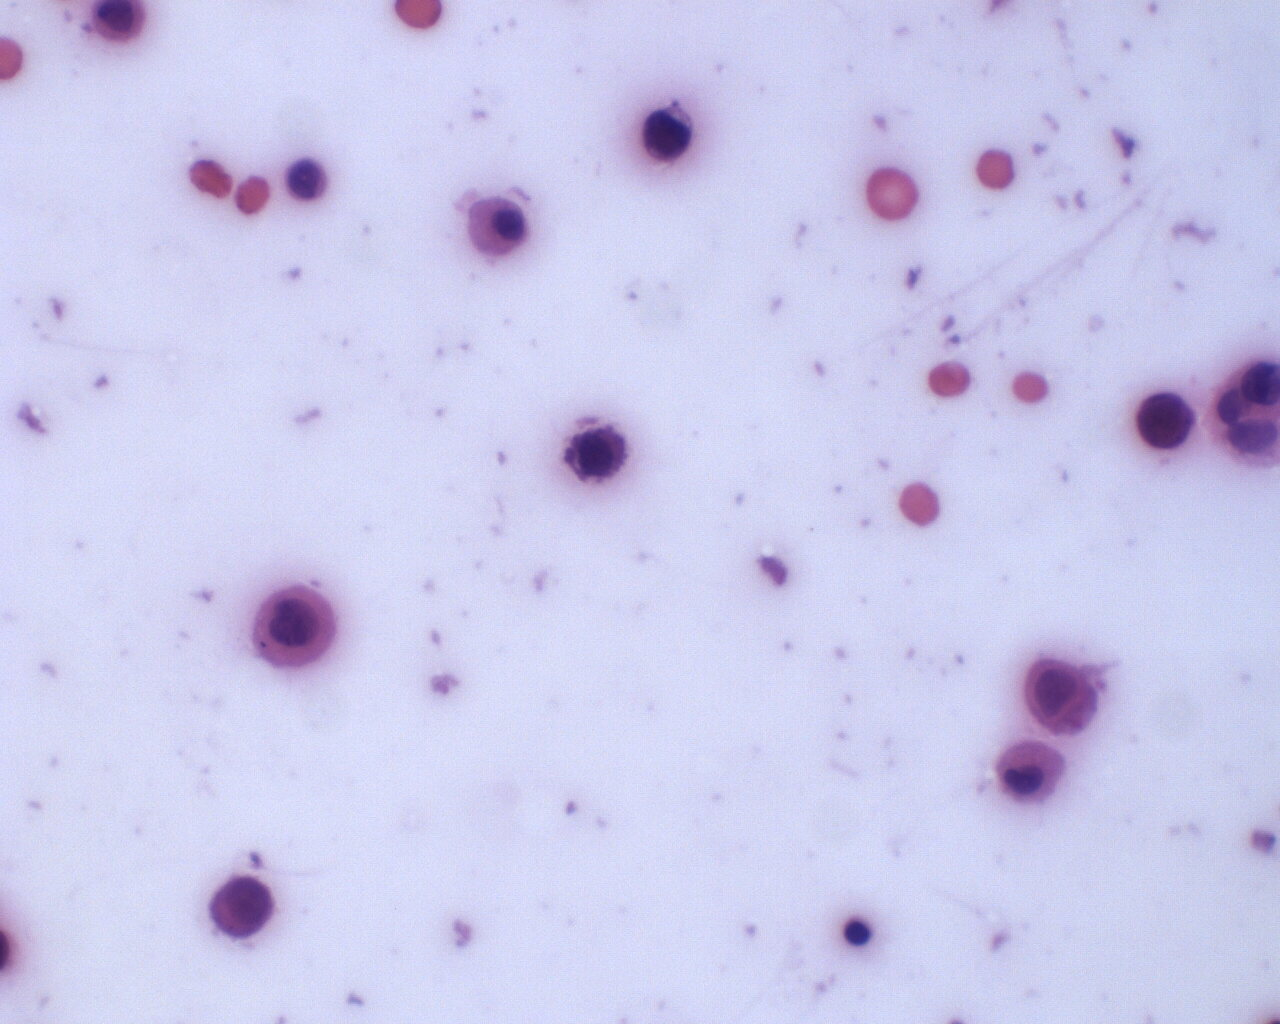ab: (1021, 652, 1103, 736), (205, 871, 287, 946), (1128, 383, 1200, 462)
lymph: (837, 913, 872, 951)
meso: (246, 577, 346, 677), (460, 191, 530, 258)
